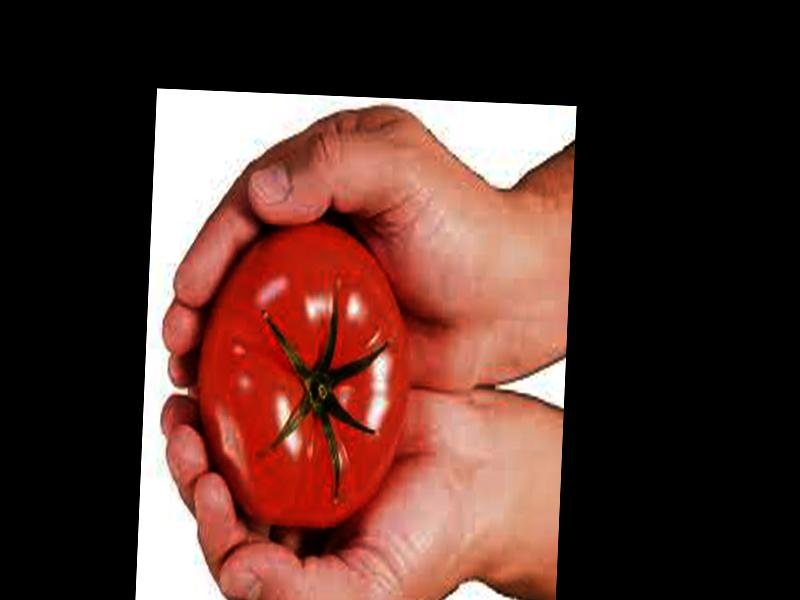Tomato: (193, 216, 412, 535)
